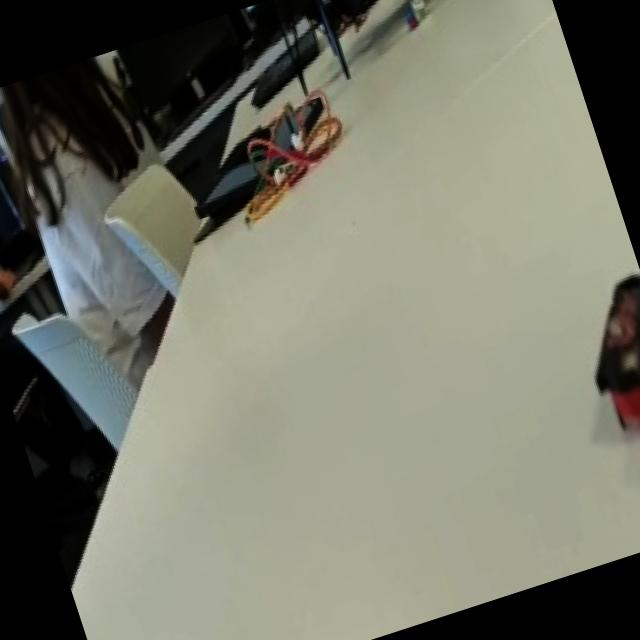2_NanoBug_Negro: (569, 270, 640, 461)
